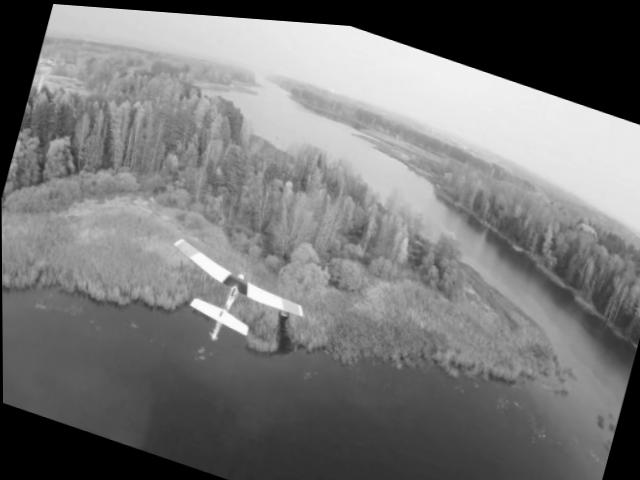hedef: (144, 221, 323, 365)
